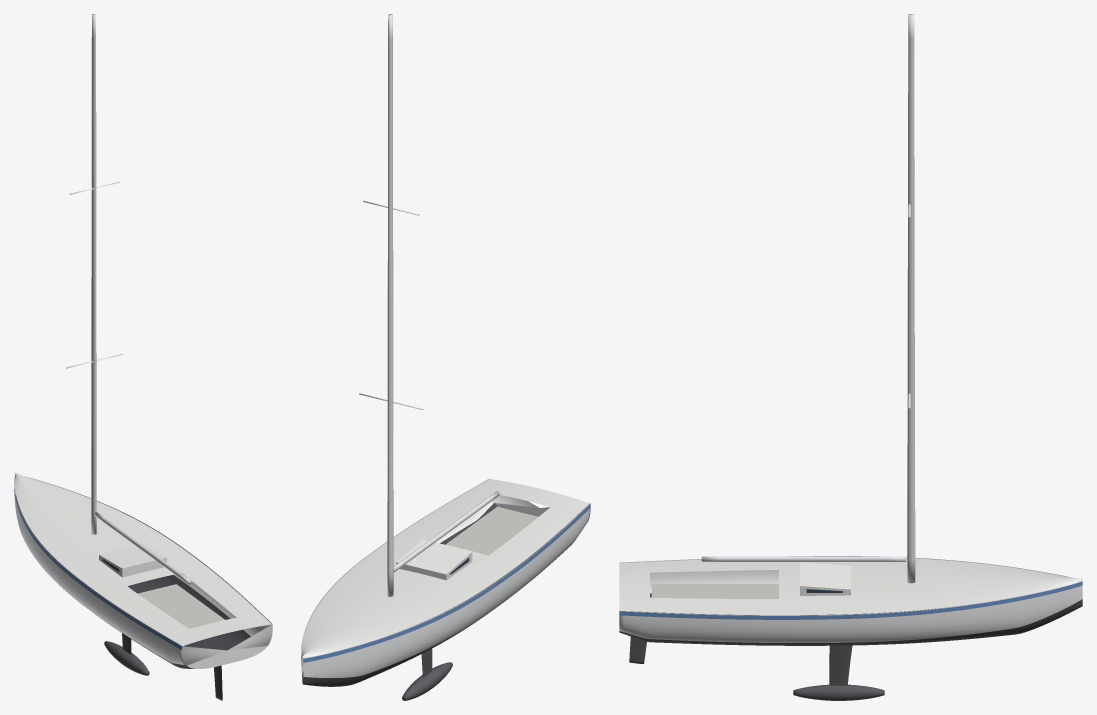
Rendered from ecureuil_aquitaine_2.glb.
3 renders of one model, left to right at view 1: azimuth 30°, elevation 25°; view 2: azimuth 150°, elevation 25°; view 3: azimuth 270°, elevation 25°, orthographic. The views are drawn at different scales.
Visible parts, largest first — view 1: pont, coque, mat, fond, cockpit, rouf, bande, app_bulbe, pivot_bome; view 2: pont, coque, mat, cockpit, rouf, bande, fond, app_bulbe, pivot_bome; view 3: pont, coque, mat, fond, bande, cockpit, rouf, pivot_bome, app_bulbe, app_quille.
Part boxes in pixels (x1,y1,x2,y2): pont: [14, 472, 271, 645]; coque: [14, 477, 272, 668]; mat: [91, 14, 96, 534]; fond: [16, 495, 250, 668]; cockpit: [138, 584, 224, 628]; rouf: [99, 544, 166, 577]; bande: [14, 478, 181, 649]; app_bulbe: [104, 641, 149, 675]; pivot_bome: [94, 512, 191, 584]; pont: [301, 479, 589, 658]; coque: [301, 478, 590, 677]; mat: [387, 14, 393, 596]; cockpit: [446, 506, 538, 555]; rouf: [396, 539, 472, 580]; bande: [301, 504, 590, 662]; fond: [302, 503, 571, 686]; app_bulbe: [402, 662, 452, 700]; pivot_bome: [393, 491, 499, 572]; pont: [619, 558, 1082, 615]; coque: [619, 556, 1082, 642]; mat: [907, 14, 915, 583]; fond: [619, 593, 1082, 645]; bande: [619, 581, 1082, 619]; cockpit: [651, 584, 778, 598]; rouf: [800, 562, 850, 595]; pivot_bome: [701, 556, 905, 561]; app_bulbe: [793, 684, 884, 700]; app_quille: [829, 645, 852, 685].
Bounding box in the file's own units: 5.21 × 28.14 × 17.25.
